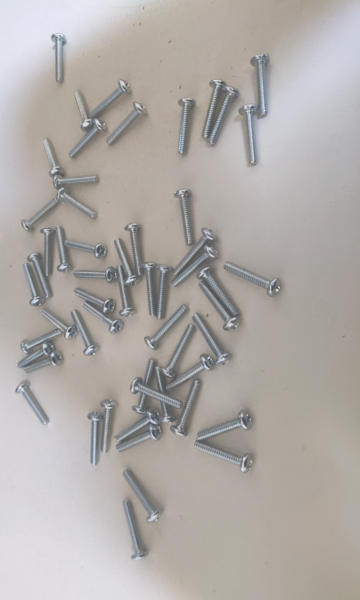longscrew: (194, 440, 255, 479), (191, 313, 238, 361), (88, 78, 137, 122), (202, 270, 244, 320), (122, 470, 162, 522), (174, 247, 219, 293), (222, 264, 285, 296), (175, 228, 216, 277), (144, 303, 188, 348), (102, 106, 148, 149), (131, 372, 184, 409), (118, 498, 149, 561), (207, 87, 239, 147), (168, 382, 202, 437), (162, 325, 195, 381), (196, 284, 237, 328), (199, 412, 255, 444), (168, 355, 215, 392), (68, 119, 107, 160), (128, 357, 156, 414), (17, 378, 49, 427), (174, 95, 198, 159), (203, 77, 227, 141), (239, 104, 263, 168), (251, 51, 275, 115), (115, 410, 159, 444), (171, 189, 195, 249), (80, 303, 123, 336), (73, 285, 116, 318), (116, 427, 165, 455), (70, 310, 99, 356), (32, 310, 79, 338), (154, 363, 175, 425), (20, 201, 57, 236), (54, 190, 96, 219), (114, 240, 139, 285), (127, 221, 147, 277), (21, 351, 65, 376), (12, 342, 56, 367), (17, 328, 61, 353), (49, 229, 73, 272), (115, 268, 136, 317), (83, 413, 102, 467), (73, 265, 117, 288), (63, 234, 107, 257), (28, 255, 52, 297), (20, 262, 43, 305), (154, 265, 171, 322), (33, 229, 56, 271), (98, 398, 115, 451), (49, 34, 66, 84), (43, 134, 62, 178), (144, 259, 157, 319), (76, 83, 88, 134), (55, 176, 104, 183)
